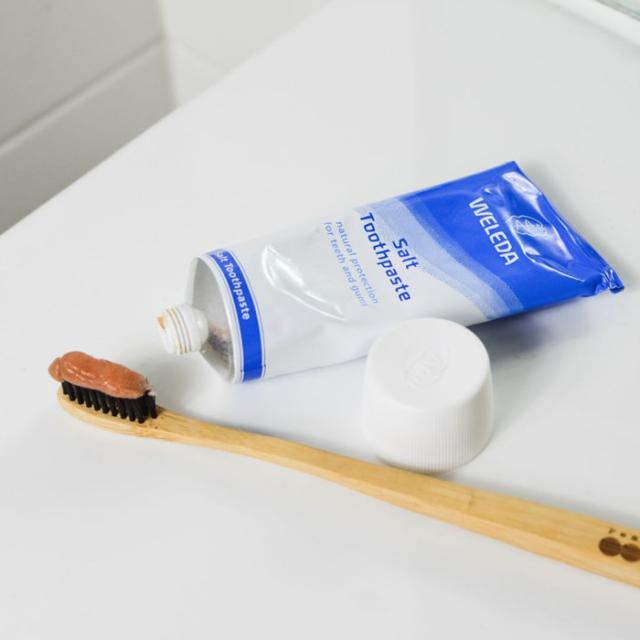toothpaste: (151, 132, 631, 388)
